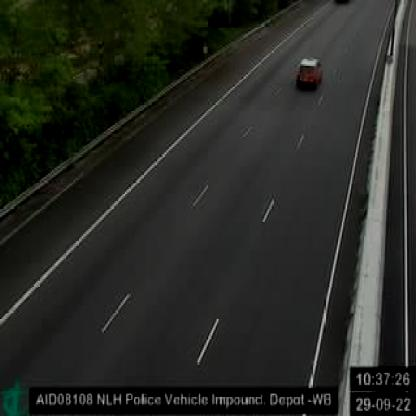Car: (290, 52, 325, 99)
